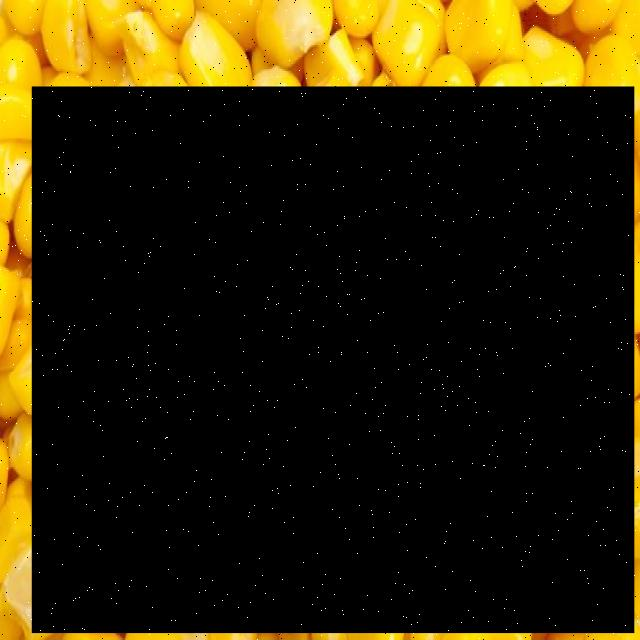Corn: (32, 88, 636, 634)
